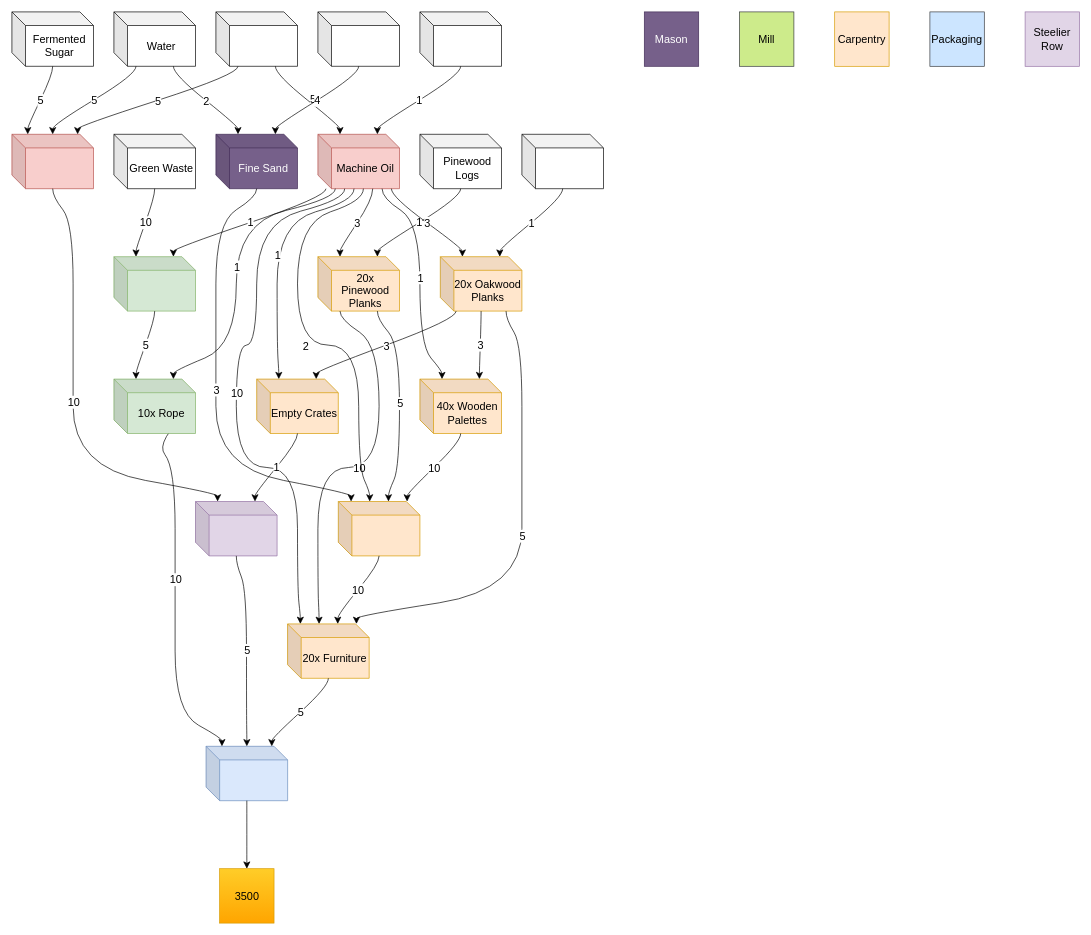
Image size: 1091x935. Some labels were removed from this diagram. Here are the shapes that lost their labels. From the top down, the centre of each, then its label:
the point at 256,38: Glassware
the point at 358,38: Sand Pile
the point at 460,38: Petroleum
the point at 52,161: Hard Liquers
the point at 562,161: Oakwood Logs
the point at 154,283: 10x Plant Fiber
the point at 236,528: 50x Novels
the point at 379,528: 20x Pinewood Shafts
the point at 246,773: 10x Aecerlian Ship Equipment
